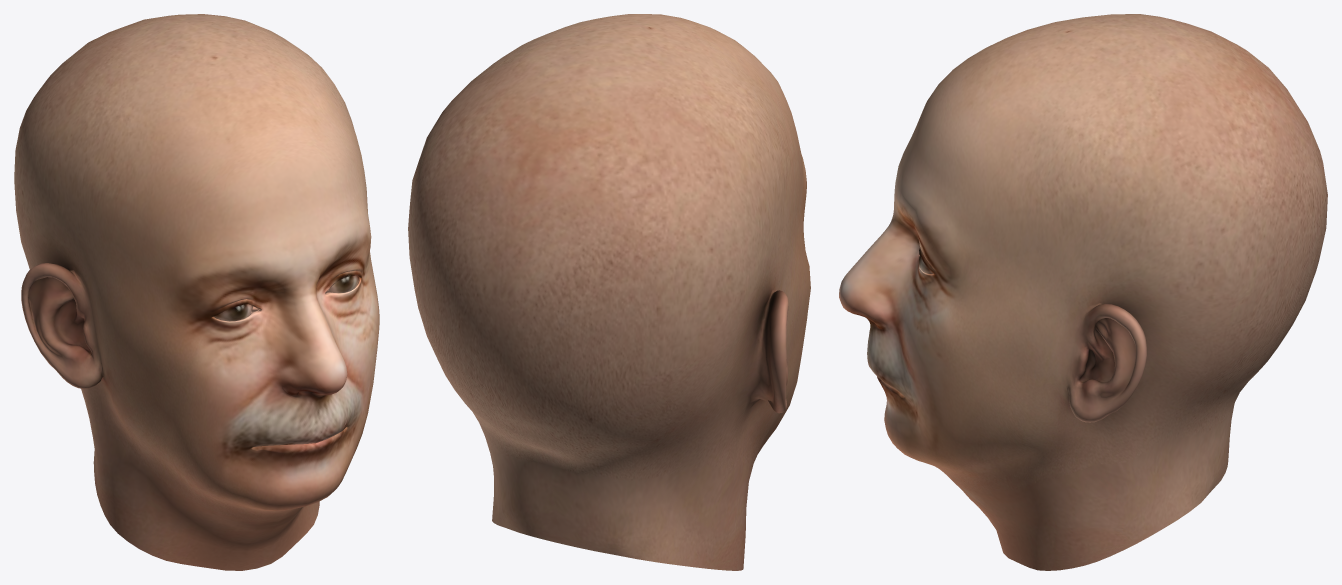
Rendered from albert_e_two_face_with_blendshapes.glb.
3 renders of one model, left to right at view 1: azimuth 30°, elevation 25°; view 2: azimuth 150°, elevation 25°; view 3: azimuth 270°, elevation 25°, orthographic. The views are drawn at different scales.
Parts seen in each view (by area): view 1: Head; view 2: Head; view 3: Head.
Boxes of the visible parts, x1=… form: Head: x1=14, y1=14, x2=379, y2=570; Head: x1=408, y1=14, x2=810, y2=570; Head: x1=839, y1=14, x2=1327, y2=570.
Size of the model in its own units: 0.1912 by 0.2715 by 0.2339.
Materials: 1 (1 with a texture image).
